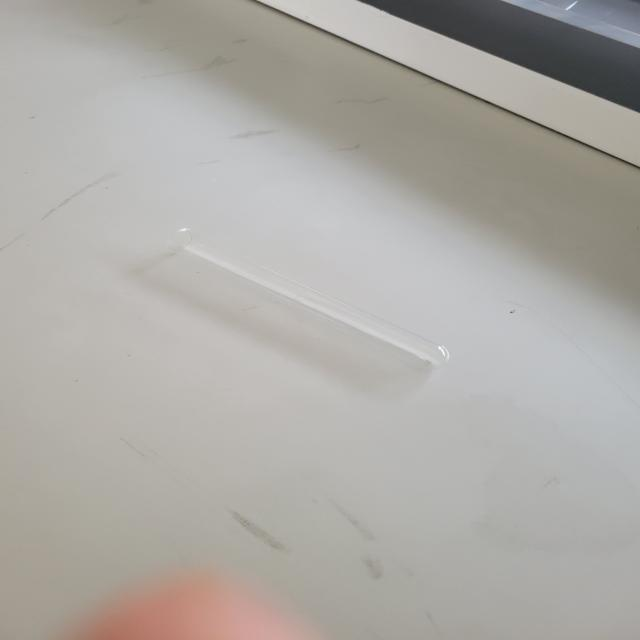Test_Tube: (106, 186, 489, 377)
